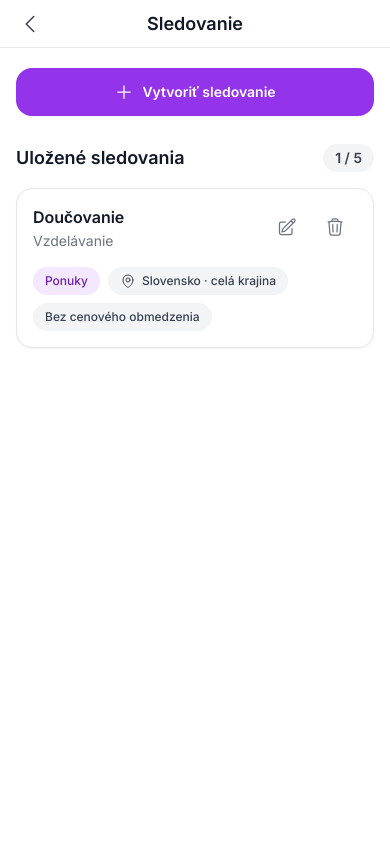
OfferWatchSettingsMobile – vysúvanie je neaktívne › closes the delete dialog as soon as the screen starts to slide out
What coordinates should you click on to do the following:
click the button named "Vymazať sledovanie"
I would click on:
 (335, 227)
Its box is [313,205,357,249].
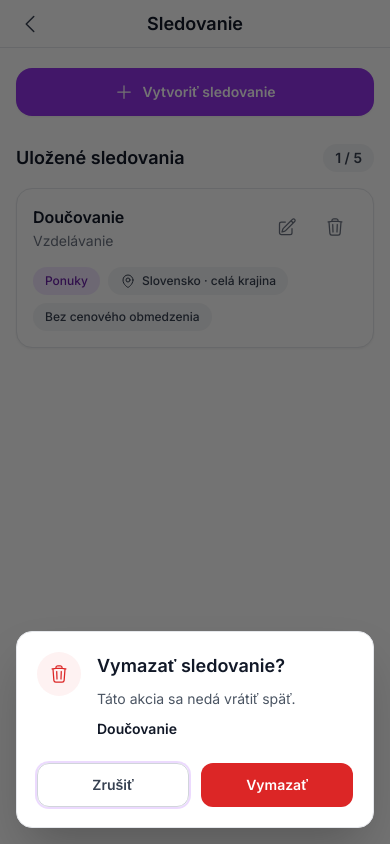
Now the dialog with test id "offer-watch-delete-dialog" is shown
